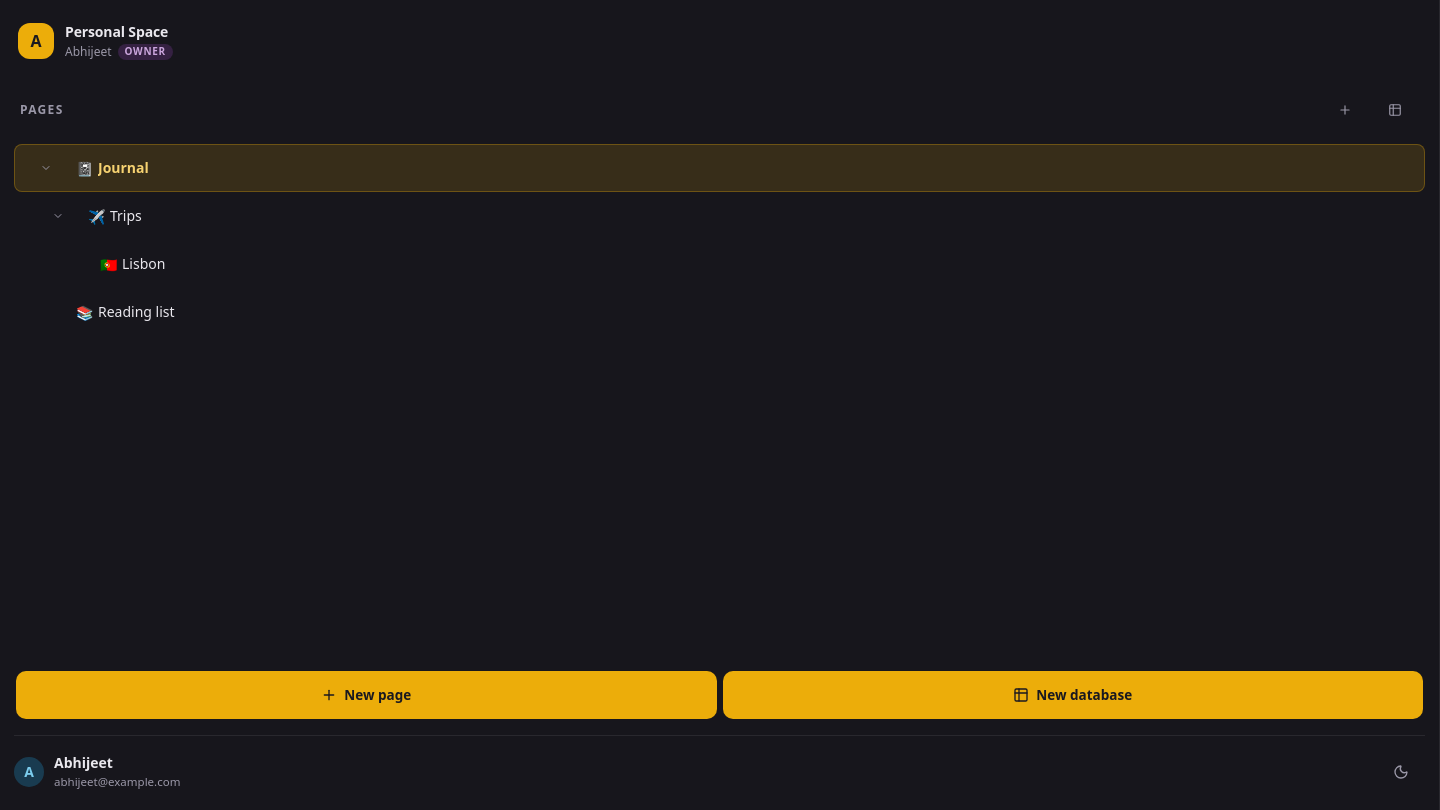
Test case: Sidebar tree › collapses and expands a subtree
Check: the button "Trips" is shown, box [110,192,1419,240]
What coordinates should you click on to do the following:
click the button named "Collapse Journal"
I would click on:
 (46, 168)
Its box is [22,144,70,192].
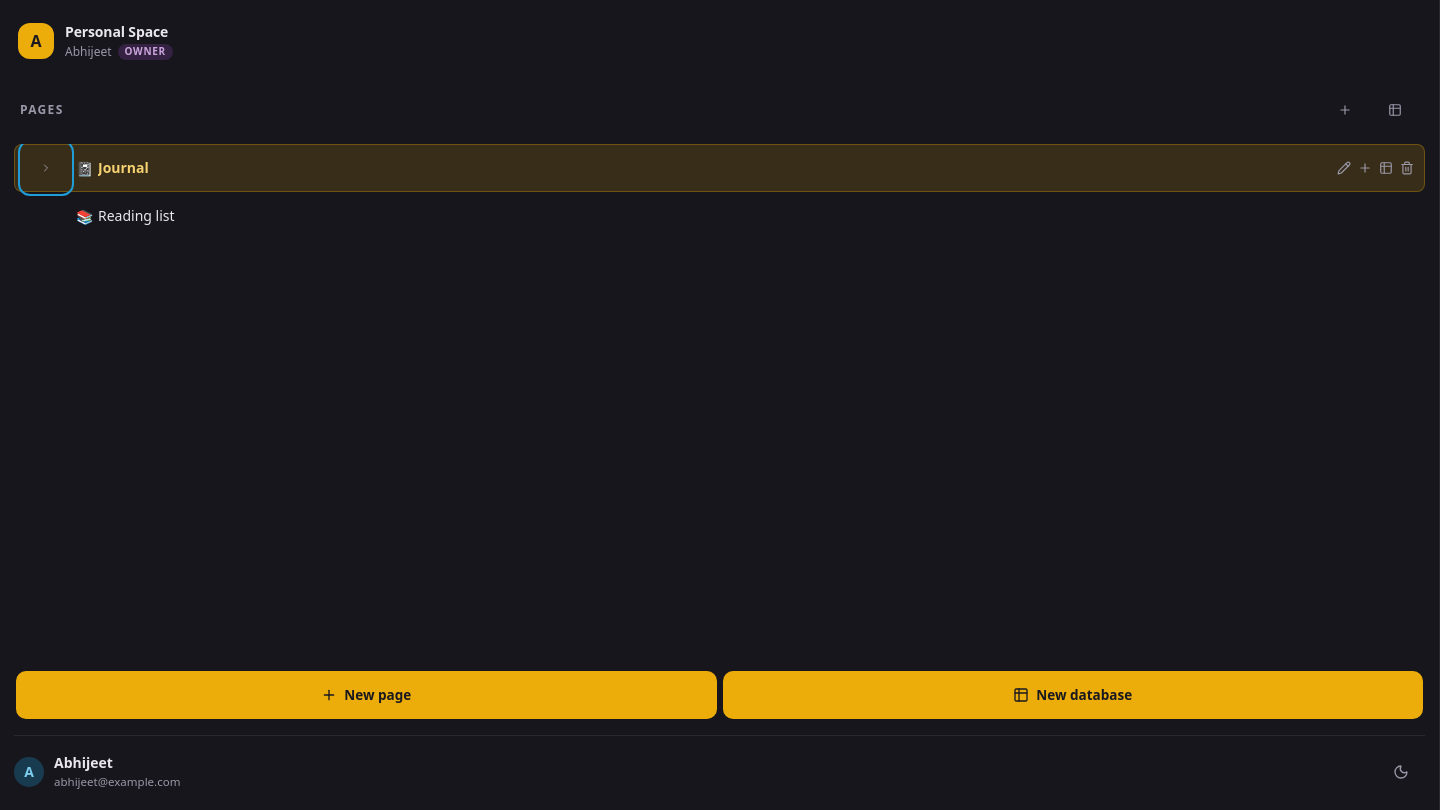
Check: the button "Trips" is gone
Check: the button "Lisbon" is gone
What coordinates should you click on to do the following:
click the button named "Expand Journal"
I would click on:
 (46, 168)
Its box is [22,144,70,192].
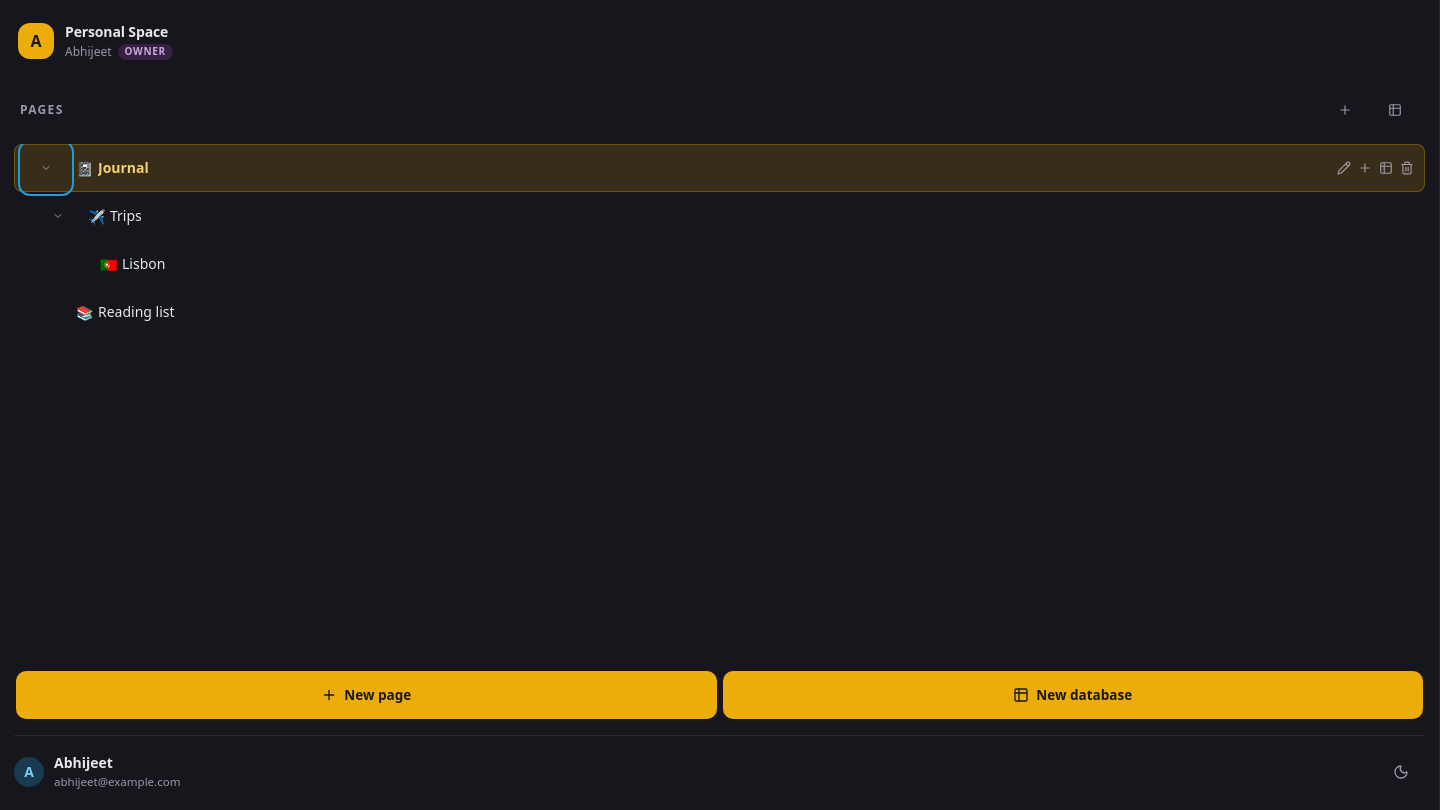
Check: the button "Trips" is shown, box [110,192,1419,240]
Check: the button "Lisbon" is shown, box [122,240,1419,288]
